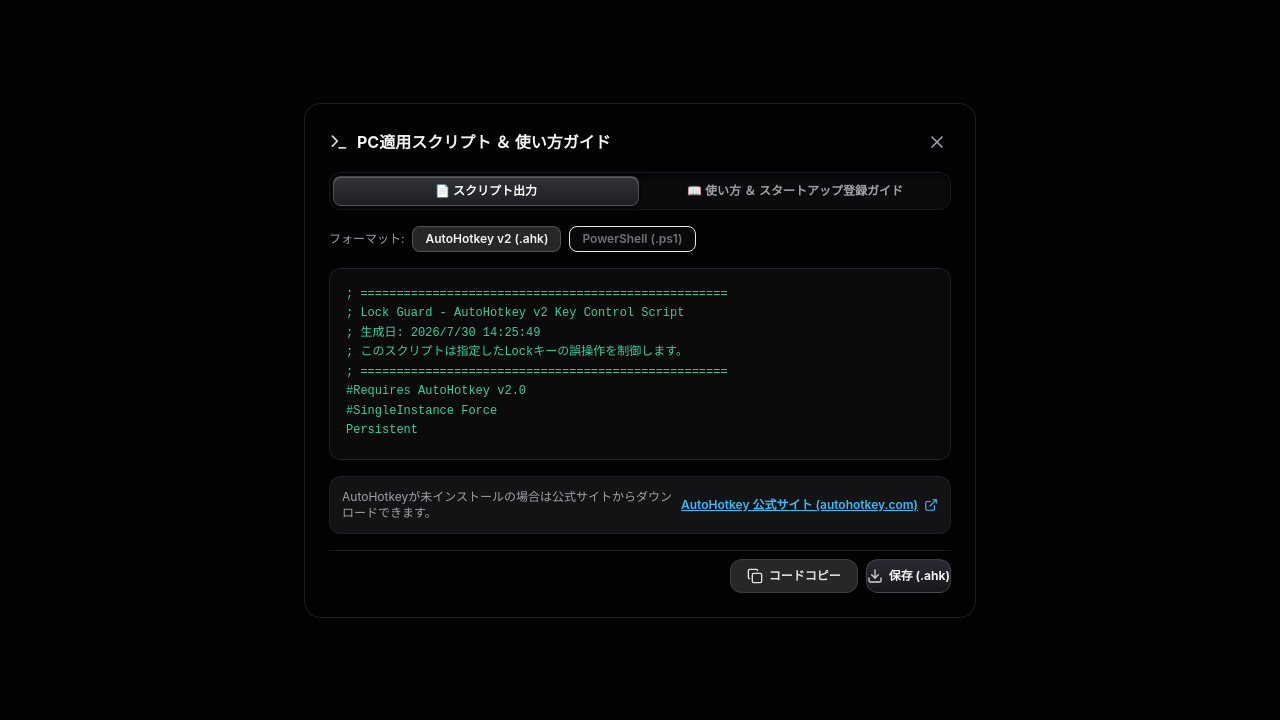
Test: ScriptModal Component › renders modal and supports tab switching to guide tab
The image size is (1280, 720).
Expected: the text "PC適用スクリプト ＆ 使い方ガイド" is shown, [357,130,611,154]
Click the button "📖 使い方 ＆ スタートアップ登録ガイド" at {"x": 795, "y": 190}, box [643,176,947,206]
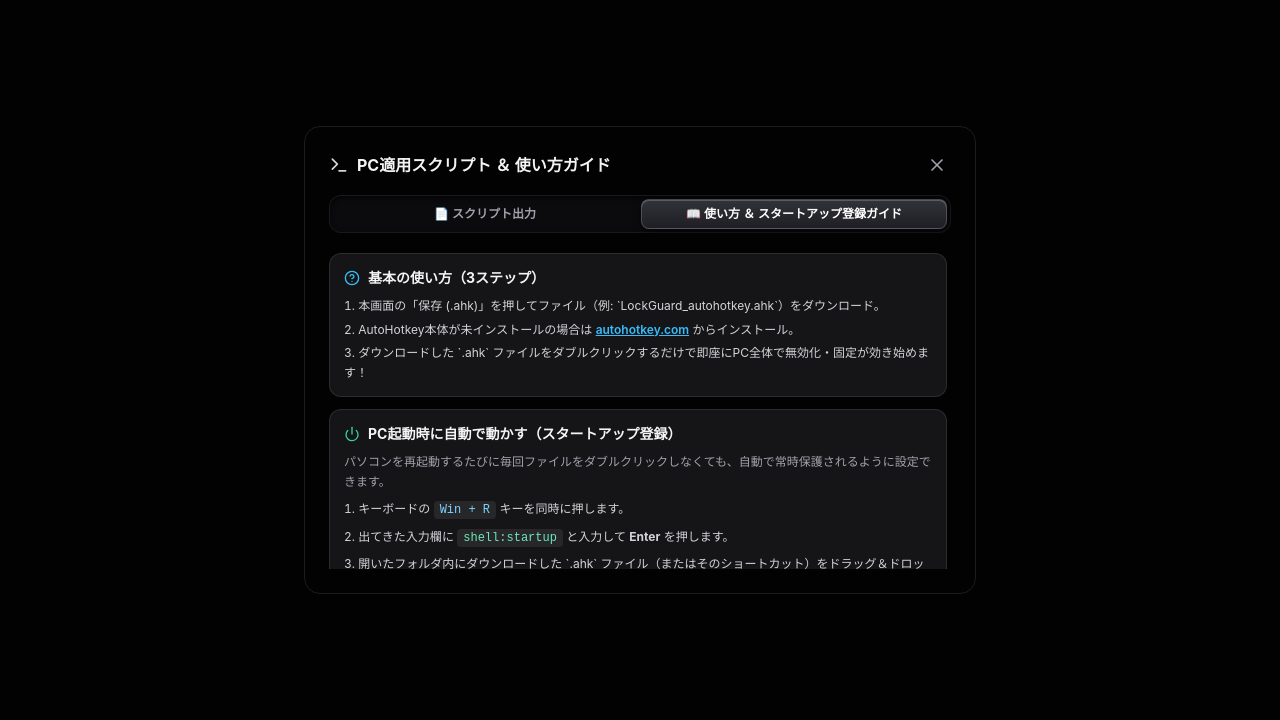
Expected: the text "基本の使い方（3ステップ）" is shown, [368,268,545,288]
Expected: the text "PC起動時に自動で動かす（スタートアップ登録）" is shown, [368,424,681,444]
